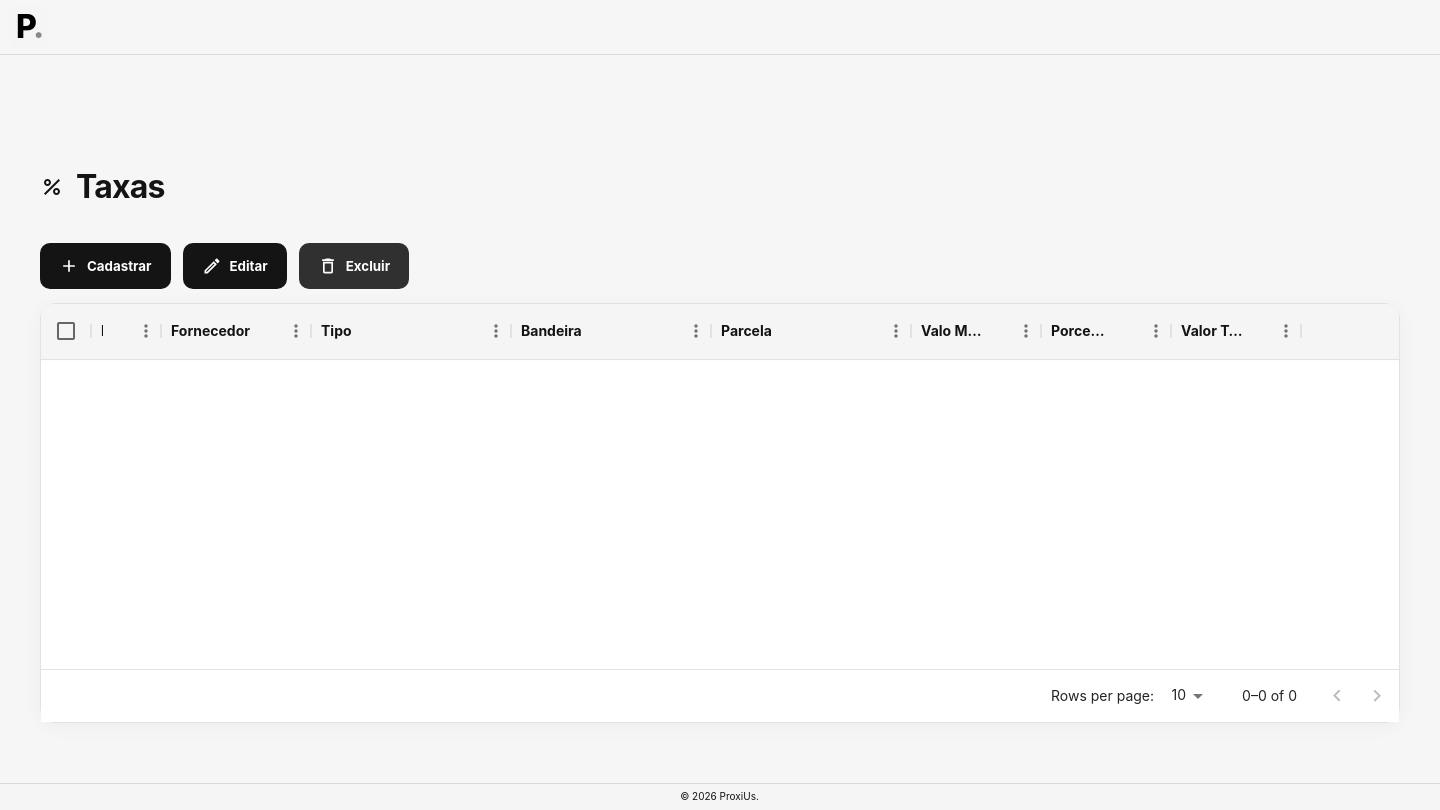
Test: mantém o formulário de cadastro claro em /taxas
Click the button "Cadastrar" at (105, 266), box [40,243,170,289]
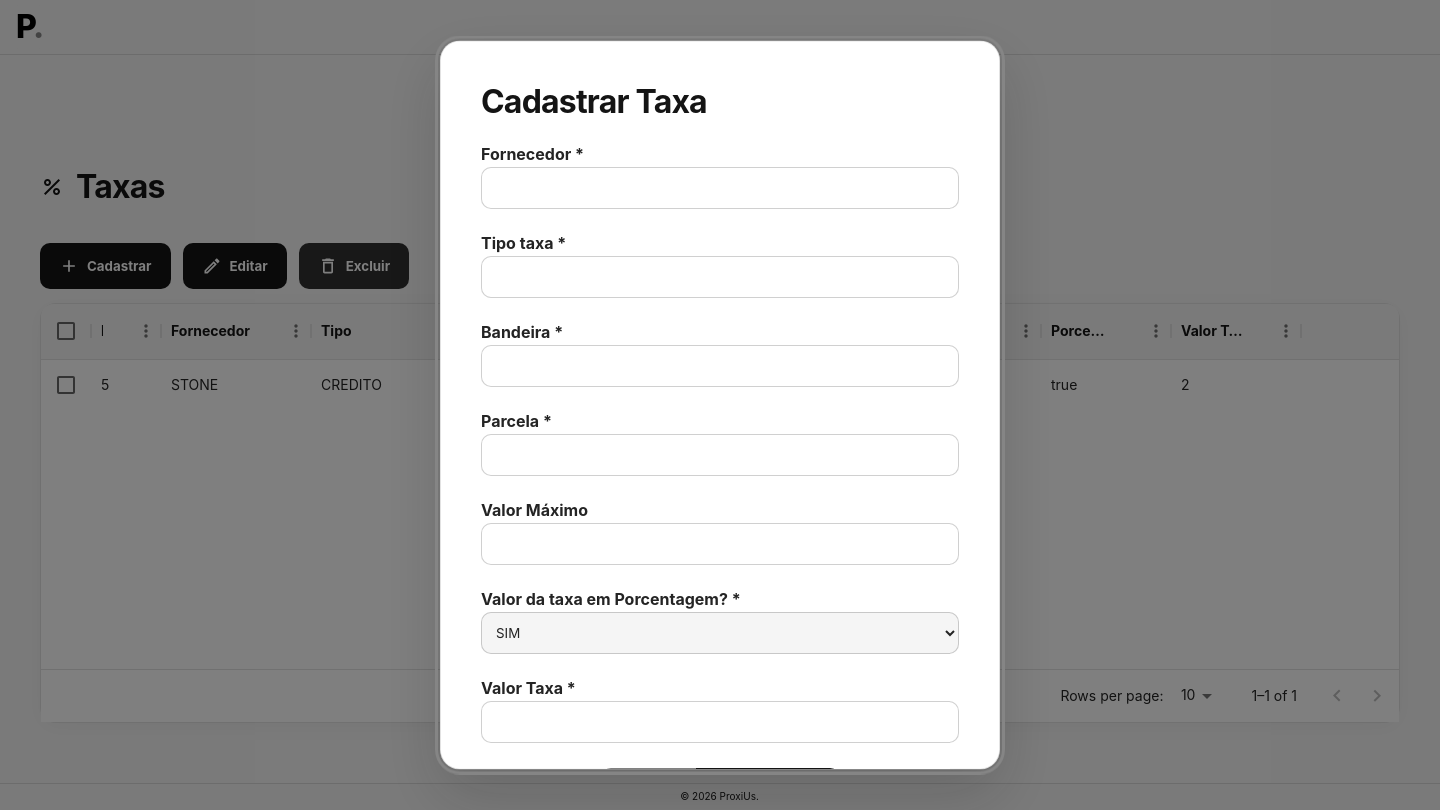
Expected: the heading "Cadastrar Taxa" is shown, [481,82,707,120]
